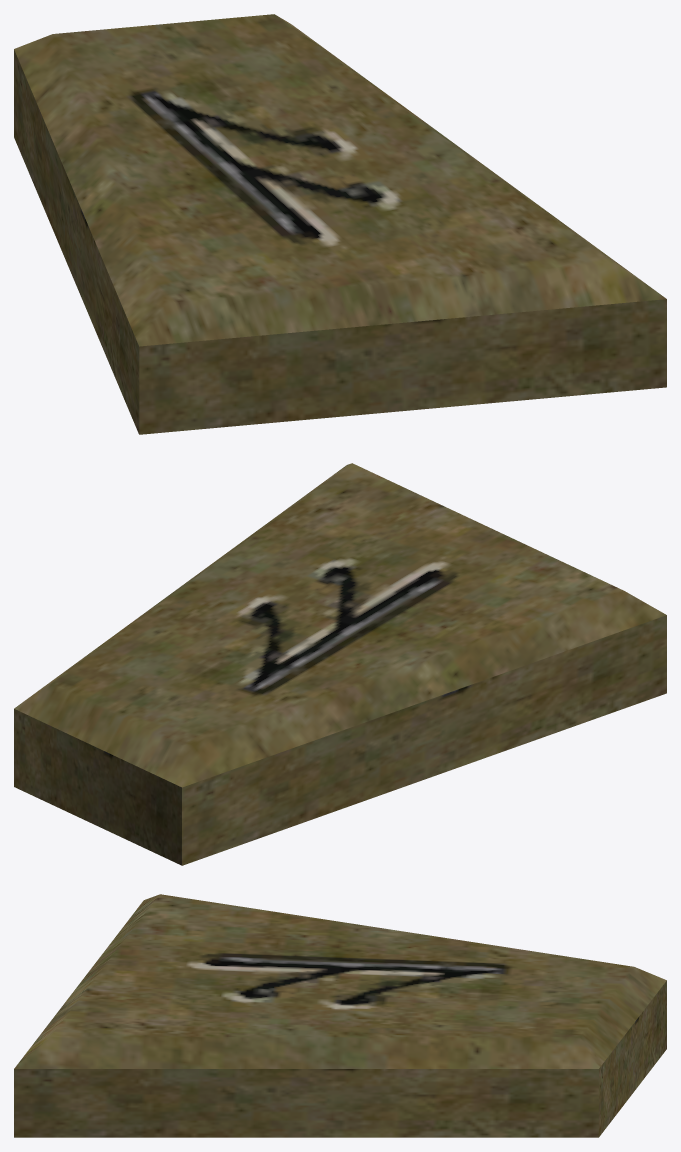
The model's file is INST_SM_RUNEC.obj.
3 renders of one model, top to bottom at view 1: azimuth 30°, elevation 25°; view 2: azimuth 150°, elevation 25°; view 3: azimuth 270°, elevation 25°, orthographic. The views are drawn at different scales.
Visible parts, largest first — view 1: RuneC; view 2: RuneC; view 3: RuneC.
Part boxes in pixels (<box>): RuneC: <box>14,14,666,434</box>; RuneC: <box>14,463,666,865</box>; RuneC: <box>14,894,666,1137</box>.
Size of the model in its own units: 56.4 by 13.86 by 92.2.
